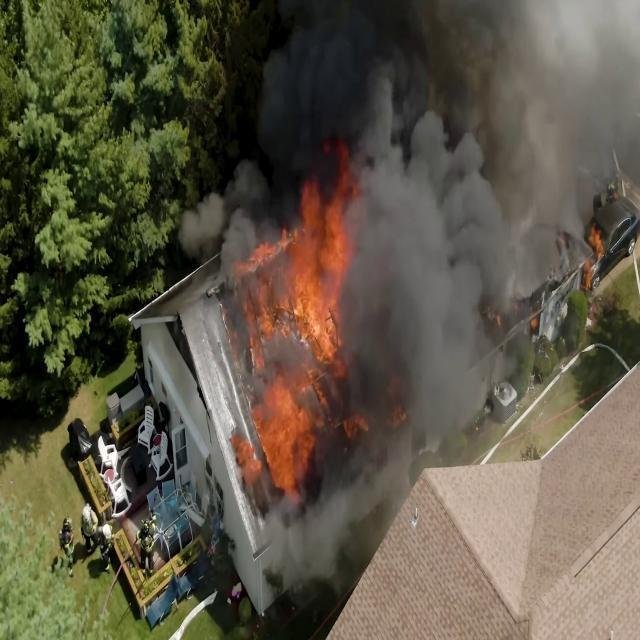Fire: (246, 147, 373, 353), (235, 394, 329, 518)
Smoke: (378, 106, 521, 374), (247, 0, 413, 114)
